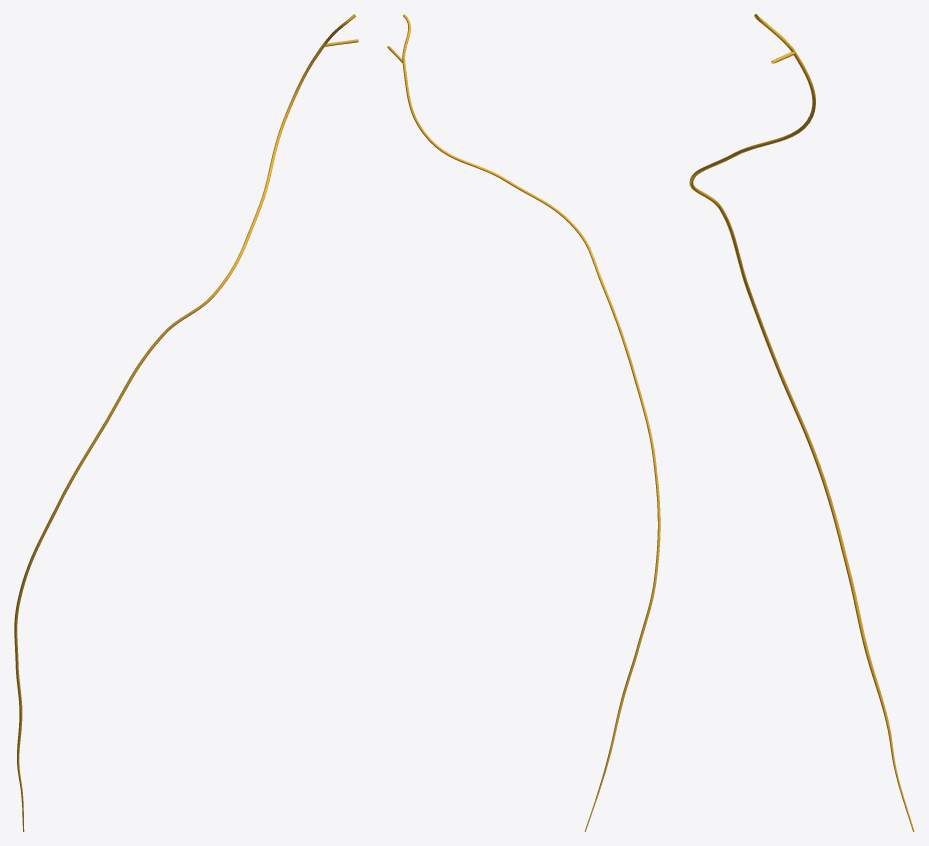
File: nervoso-long-thoracic-nerve-r.glb
3 views of the same model, side by side, from view 1: azimuth 30°, elevation 25°; view 2: azimuth 150°, elevation 25°; view 3: azimuth 270°, elevation 25° (orthographic). The views are drawn at different scales.
Parts seen in each view (by area): view 1: Long thoracic nerve.r; view 2: Long thoracic nerve.r; view 3: Long thoracic nerve.r.
Boxes of the visible parts, x1,y1,x2,y2 form: Long thoracic nerve.r: (14,14,358,831); Long thoracic nerve.r: (387,14,660,831); Long thoracic nerve.r: (689,14,914,831).
Size of the model in its own units: 0.1207 by 0.2876 by 0.0601.
